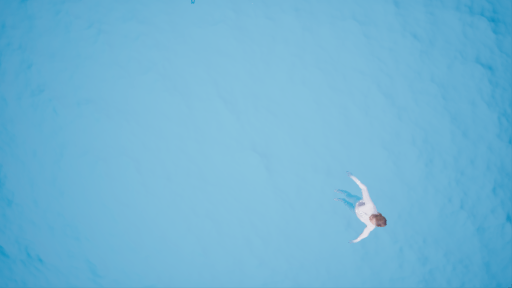person: (325, 172, 392, 242)
